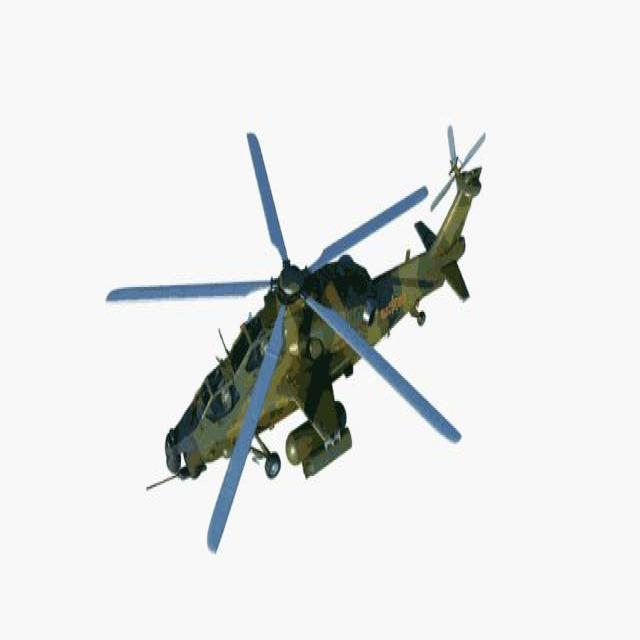MIL_HELO: (77, 109, 528, 538)
